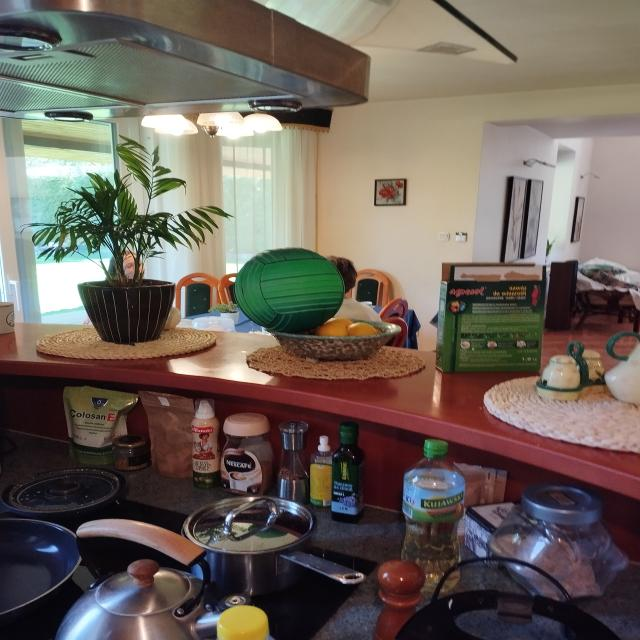zielona: (233, 247, 345, 333)
